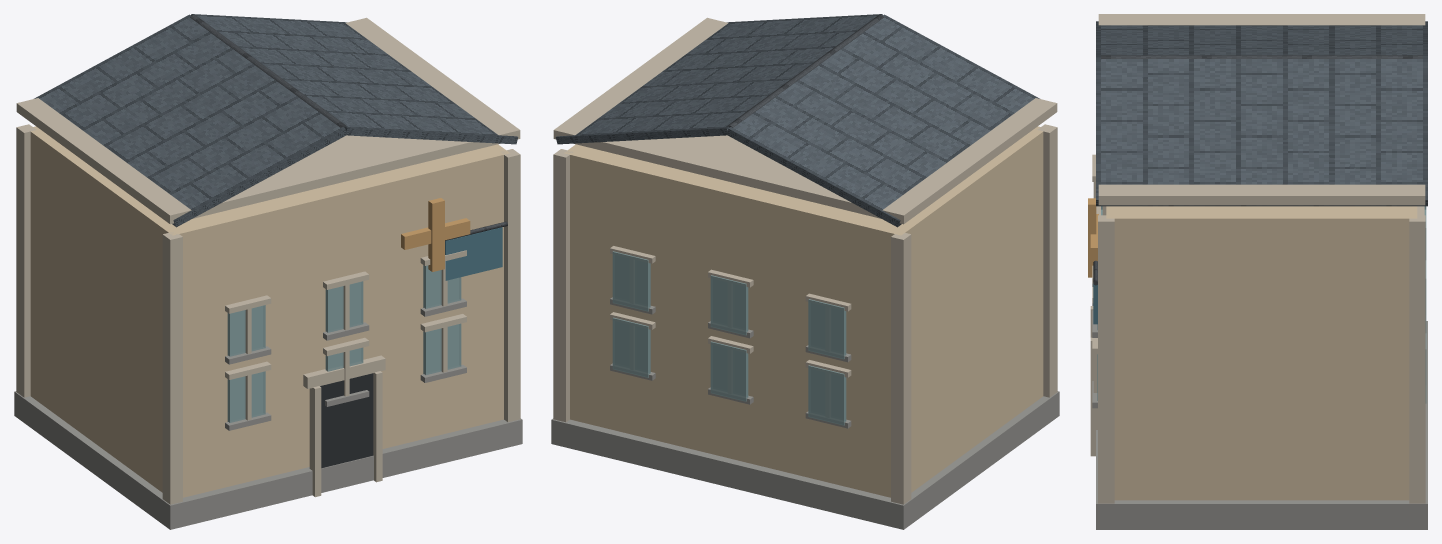
File: procedural_infirmary@5.glb
3 renders of one model, left to right at view 1: azimuth 30°, elevation 25°; view 2: azimuth 150°, elevation 25°; view 3: azimuth 270°, elevation 25°, orthographic. The views are drawn at different scales.
Parts seen in each view (by area): view 1: part_1, part_5, part_2, part_0, part_4, part_3, part_8, part_7, part_6; view 2: part_1, part_5, part_2, part_0, part_4, part_6; view 3: part_1, part_5, part_2, part_0, part_6, part_7, part_4.
Part boxes in pixels (bbox=[...]): part_1: bbox=[30, 126, 509, 497]; part_5: bbox=[34, 14, 518, 227]; part_2: bbox=[16, 17, 520, 504]; part_0: bbox=[14, 298, 522, 529]; part_4: bbox=[227, 265, 461, 422]; part_3: bbox=[320, 373, 373, 468]; part_8: bbox=[445, 227, 502, 280]; part_7: bbox=[401, 198, 470, 271]; part_6: bbox=[190, 15, 507, 240]; part_1: bbox=[564, 126, 1043, 497]; part_5: bbox=[555, 14, 1039, 227]; part_2: bbox=[553, 17, 1057, 504]; part_0: bbox=[551, 297, 1059, 529]; part_4: bbox=[612, 251, 846, 425]; part_6: bbox=[727, 15, 883, 127]; part_1: bbox=[1106, 206, 1417, 500]; part_5: bbox=[1096, 21, 1427, 206]; part_2: bbox=[1090, 14, 1425, 503]; part_0: bbox=[1092, 283, 1427, 529]; part_6: bbox=[1093, 55, 1422, 285]; part_7: bbox=[1088, 198, 1098, 277]; part_4: bbox=[1097, 206, 1426, 403].
Size of the model in its own units: 8.35 by 8.15 by 6.55.
Materials: 9 (2 with a texture image).
